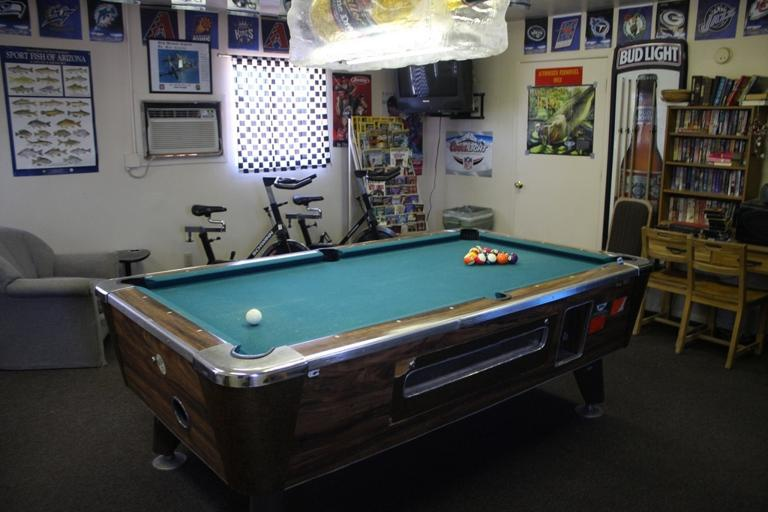non-vehicle: (183, 173, 317, 264), (283, 166, 404, 247)
